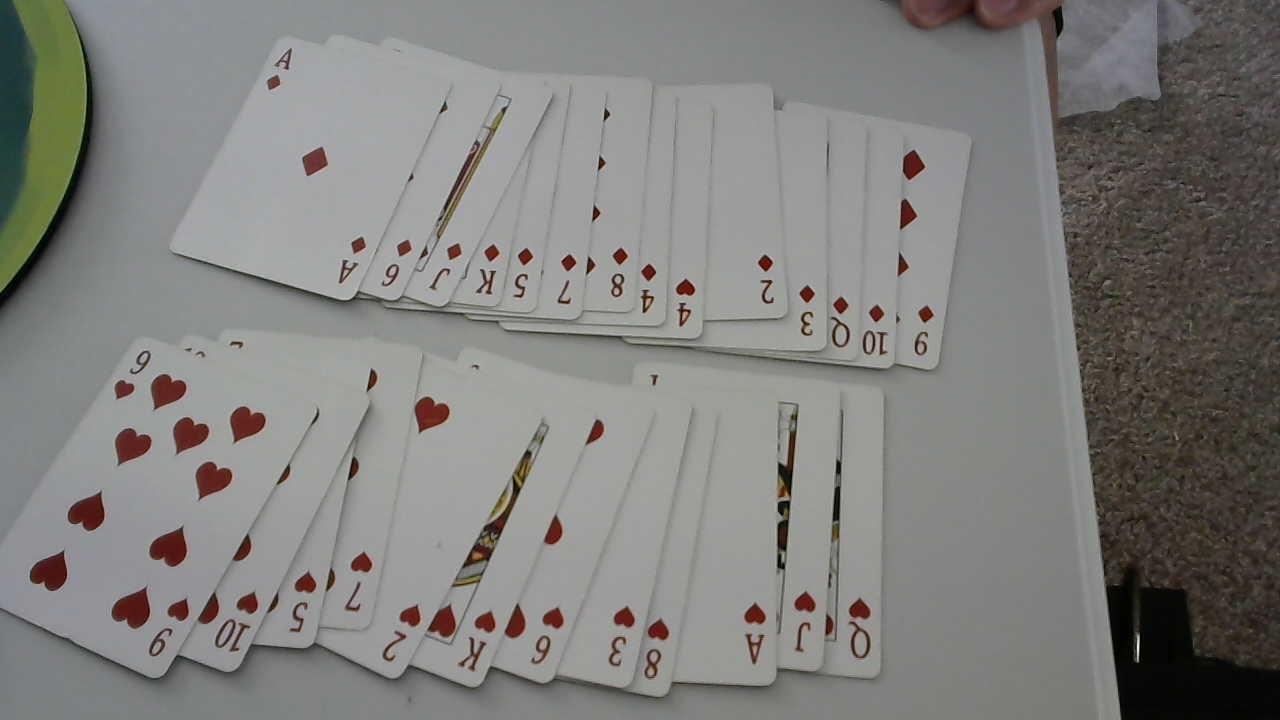10D: (862, 303, 889, 357)
10H: (213, 590, 265, 656), (287, 570, 318, 636)
2D: (758, 251, 778, 309)
2H: (382, 600, 422, 665)
3D: (796, 281, 818, 341)
3H: (606, 605, 638, 666)
4D: (638, 261, 658, 312)
4H: (673, 275, 696, 328)
5D: (512, 245, 535, 300)
6D: (379, 237, 417, 287)
6H: (529, 603, 568, 666)
7D: (555, 250, 578, 308)
7H: (342, 547, 376, 613)
8D: (607, 246, 630, 301)
8H: (642, 616, 670, 680)
9D: (912, 300, 934, 357)
9H: (147, 593, 191, 660), (110, 347, 154, 404)
AD: (336, 235, 367, 287), (264, 44, 296, 94)
AH: (741, 599, 769, 667)
JD: (425, 243, 465, 292)
JH: (792, 590, 819, 656)
KD: (475, 242, 502, 296)
KH: (455, 606, 495, 669)
QD: (831, 293, 853, 352)
QH: (846, 596, 876, 661)
